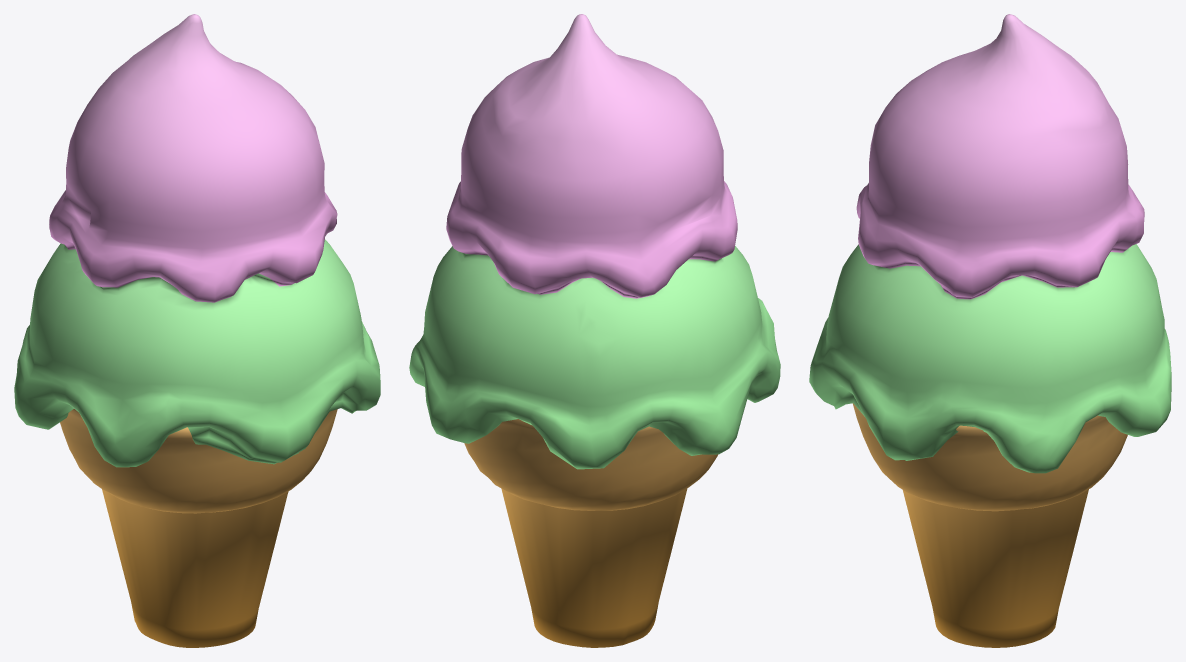
The model's file is IceCream_0001_0006.fbx.
3 views of the same model, side by side, from view 1: azimuth 30°, elevation 25°; view 2: azimuth 150°, elevation 25°; view 3: azimuth 270°, elevation 25° (orthographic).
Parts seen in each view (by area): view 1: Ice_0001_0006; view 2: Ice_0001_0006; view 3: Ice_0001_0006.
Boxes of the visible parts, x1,y1,x2,y2 form: Ice_0001_0006: (14,14,380,647); Ice_0001_0006: (409,14,780,647); Ice_0001_0006: (809,14,1171,647).
Bounding box in the file's own units: 0.0994 × 0.1836 × 0.0989.
1 material, 1 textured.
